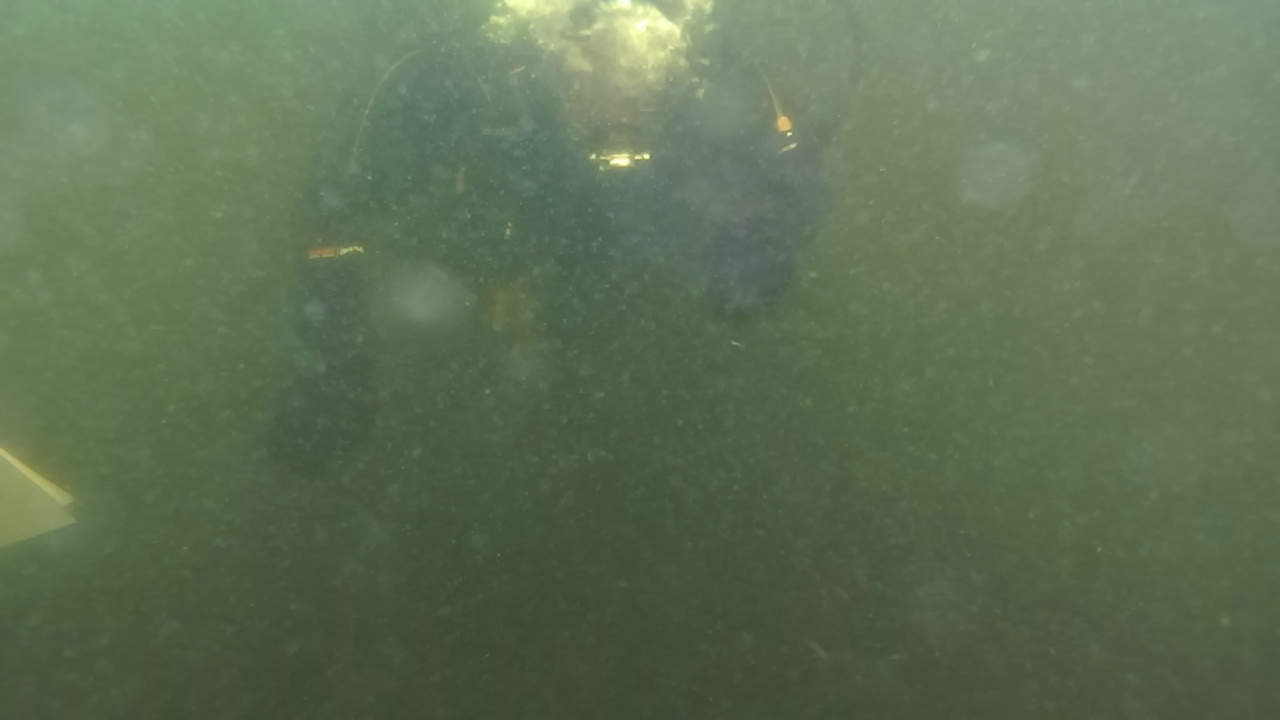Diver: (236, 14, 852, 482)
